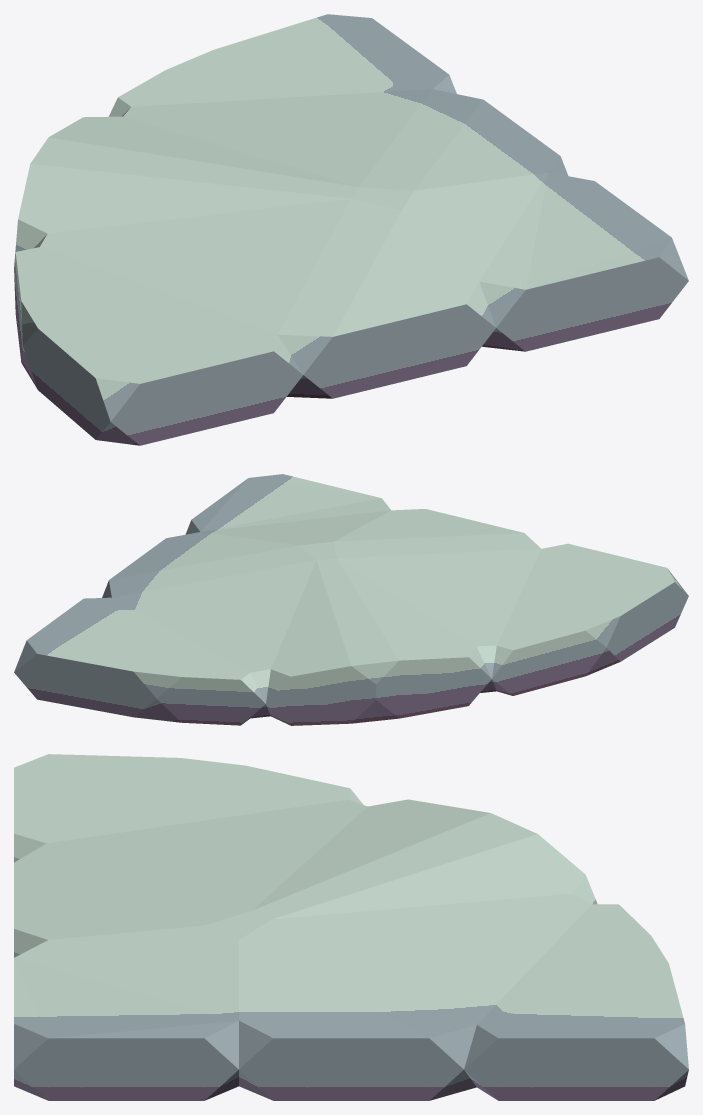
The model's file is Tiles 5.001.fbx.
3 renders of one model, top to bottom at view 1: azimuth 30°, elevation 25°; view 2: azimuth 150°, elevation 25°; view 3: azimuth 270°, elevation 25°, orthographic. The views are drawn at different scales.
Visible parts, largest first — view 1: Tiles 5.001; view 2: Tiles 5.001; view 3: Tiles 5.001.
Part boxes in pixels (<box>): Tiles 5.001: <box>14,14,688,445</box>; Tiles 5.001: <box>14,474,688,725</box>; Tiles 5.001: <box>14,754,688,1100</box>.
Size of the model in its own units: 495 by 66.04 by 495.
